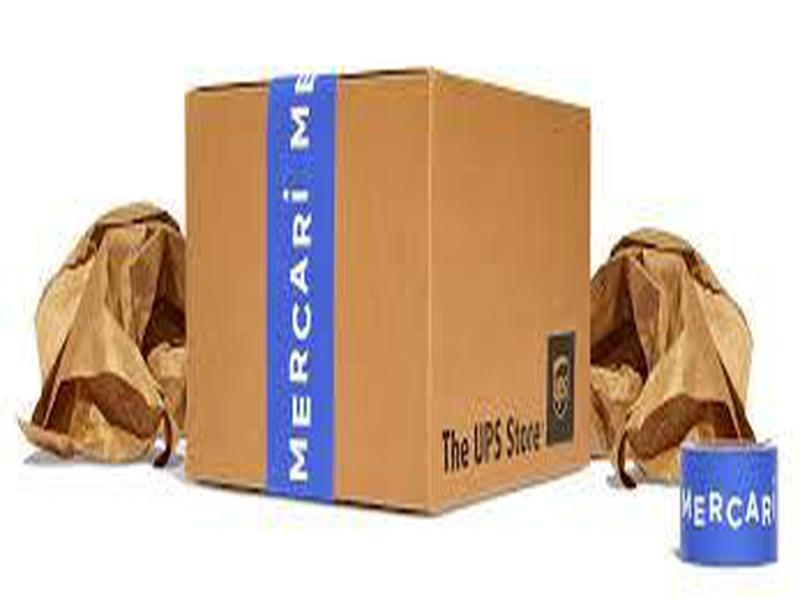package: (170, 58, 601, 526)
